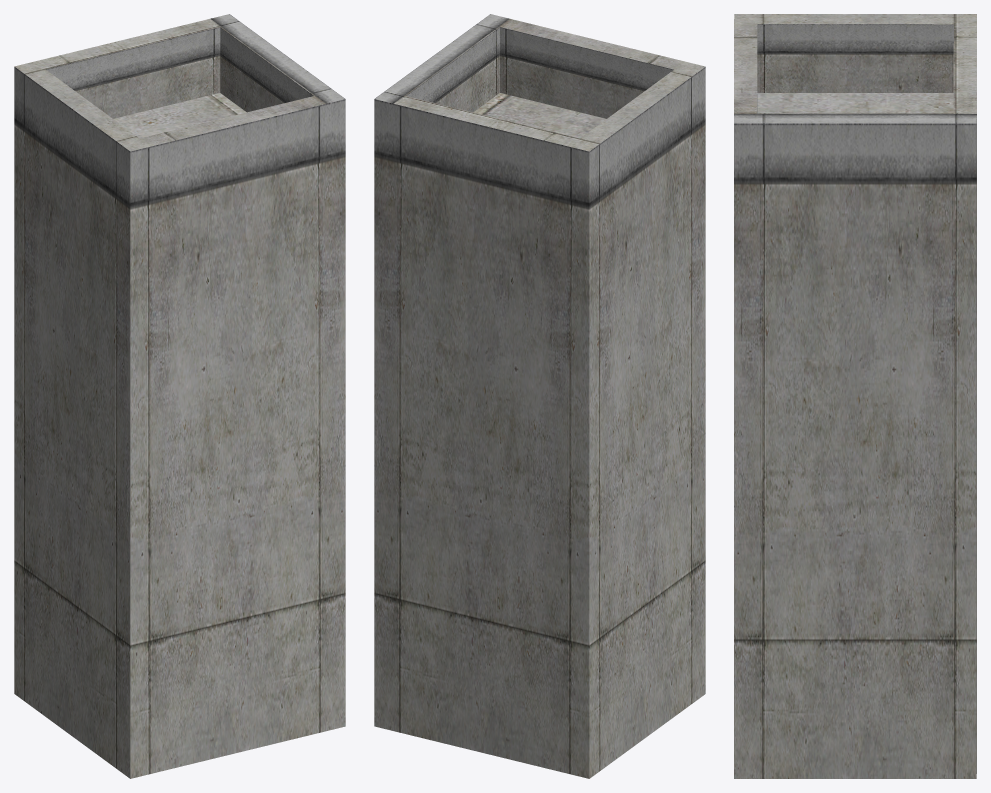
Rendered from Flower_Tob_450.FBX.
3 renders of one model, left to right at view 1: azimuth 30°, elevation 25°; view 2: azimuth 150°, elevation 25°; view 3: azimuth 270°, elevation 25°, orthographic. The views are drawn at different scales.
Parts seen in each view (by area): view 1: Flower_Tob_450; view 2: Flower_Tob_450; view 3: Flower_Tob_450.
Part boxes in pixels (x1,y1,x2,y2): Flower_Tob_450: [14, 14, 345, 778]; Flower_Tob_450: [374, 14, 705, 778]; Flower_Tob_450: [734, 14, 976, 778].
Bounding box in the file's own units: 12.73 × 35.42 × 11.91.
